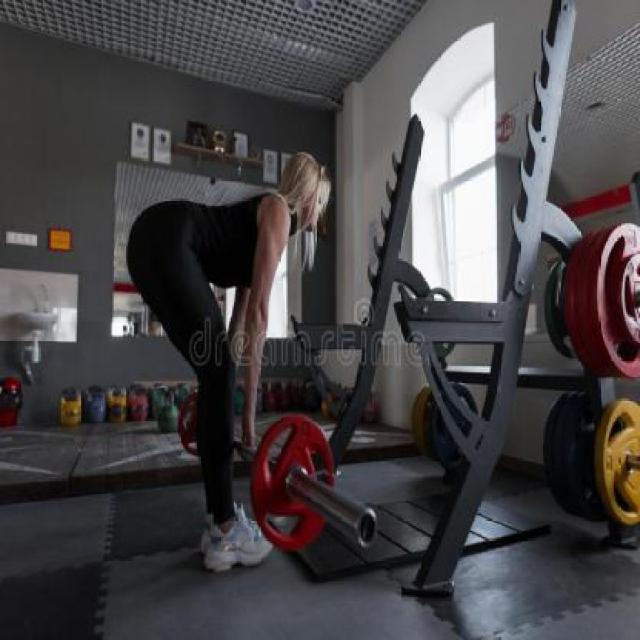Barbell: (354, 506, 380, 548)
